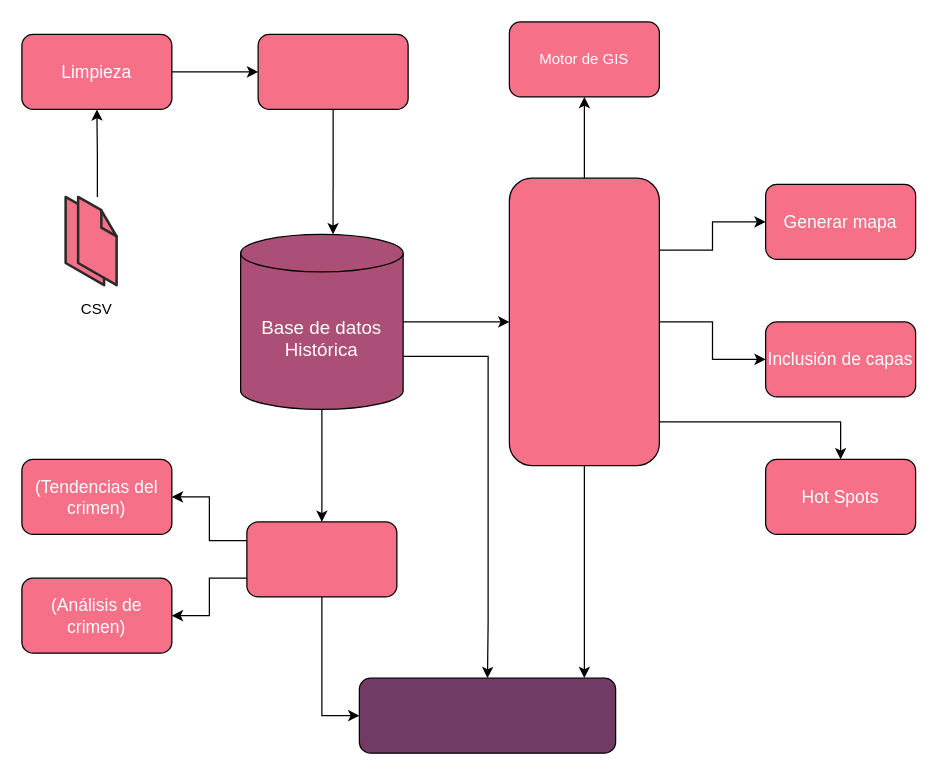
Some shapes in this 938 by 775 pixel diagram are drawn without their labels. The centre of each missing label's shape, as x and y in pixels:
"Análisis exploratorio del crimen" belongs at (x=321, y=559).
"Análisis Geo-espacial del crimen" belongs at (x=583, y=321).
"Dashboard" belongs at (x=487, y=715).
"ETL" belongs at (x=332, y=71).
